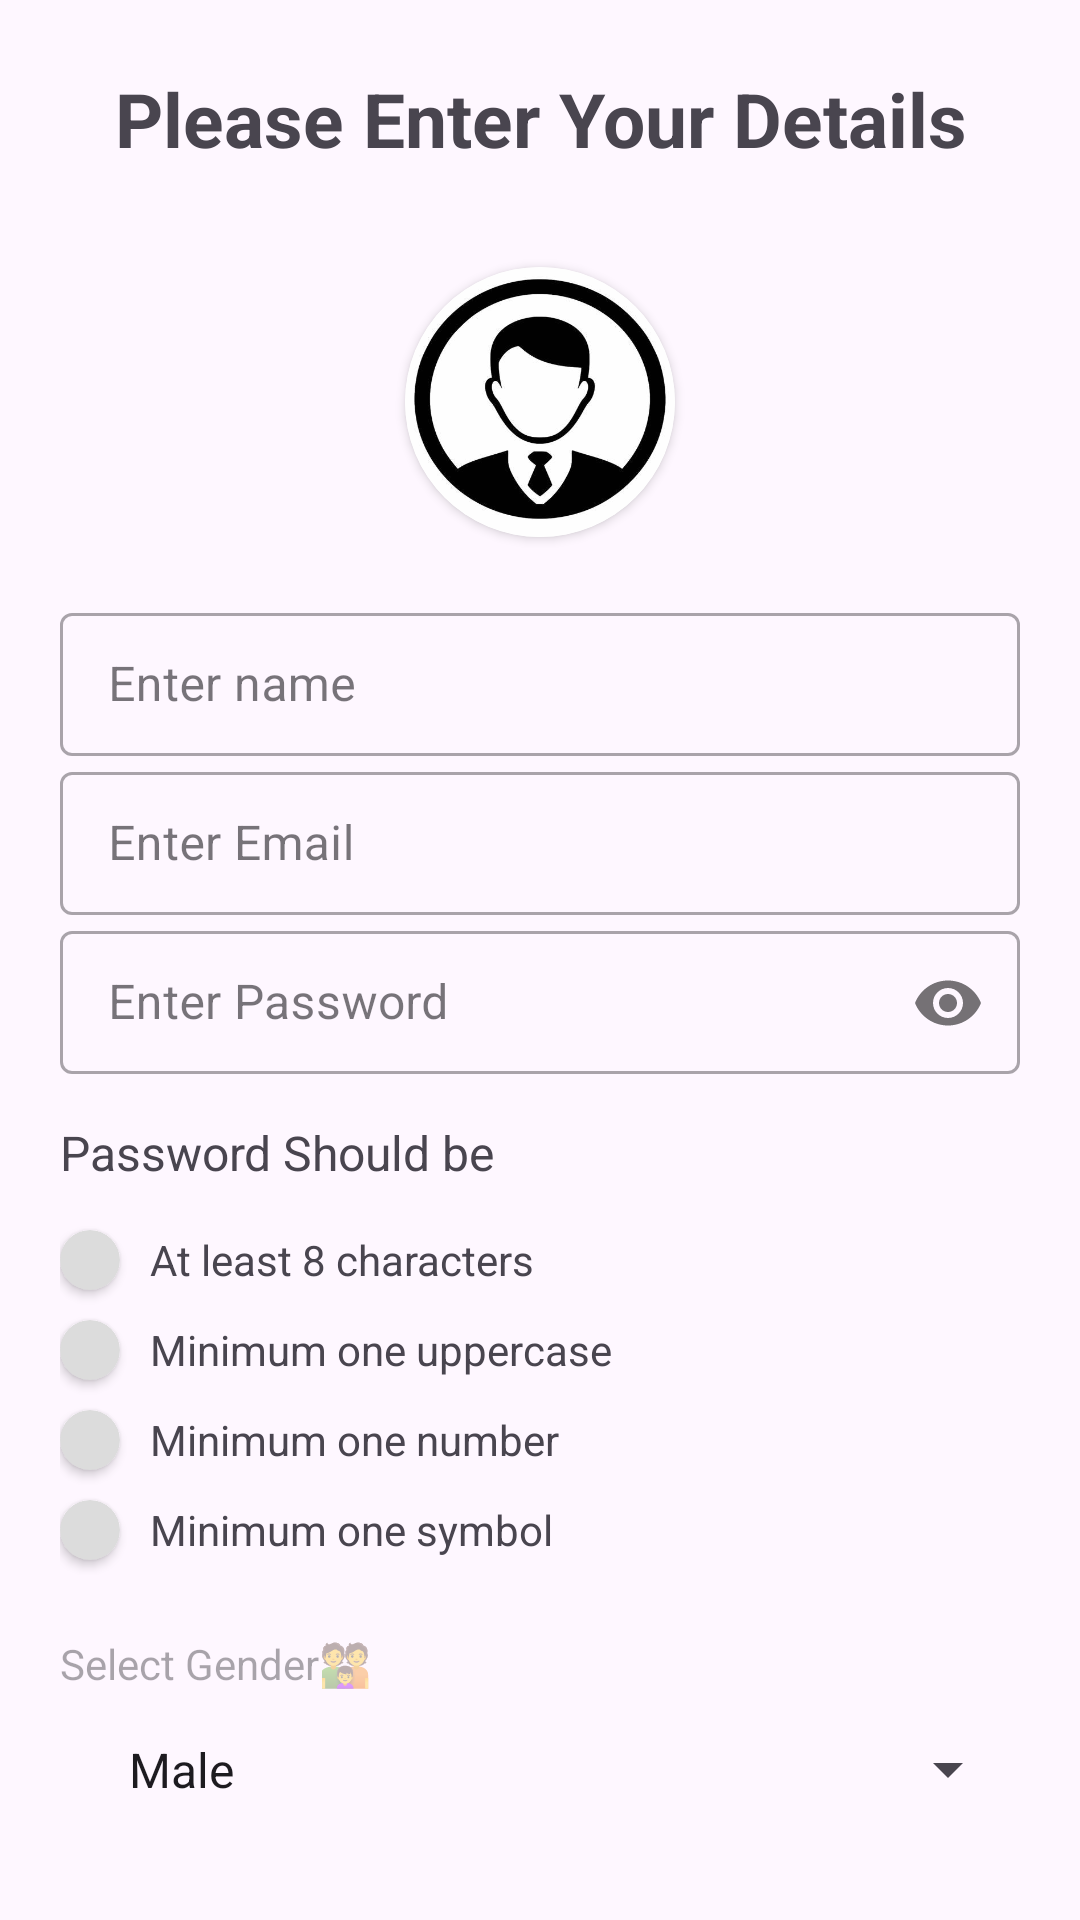

Icon click points for this 1080x1920 phone screenshot, format point (x, y):
user: point (541, 408)
